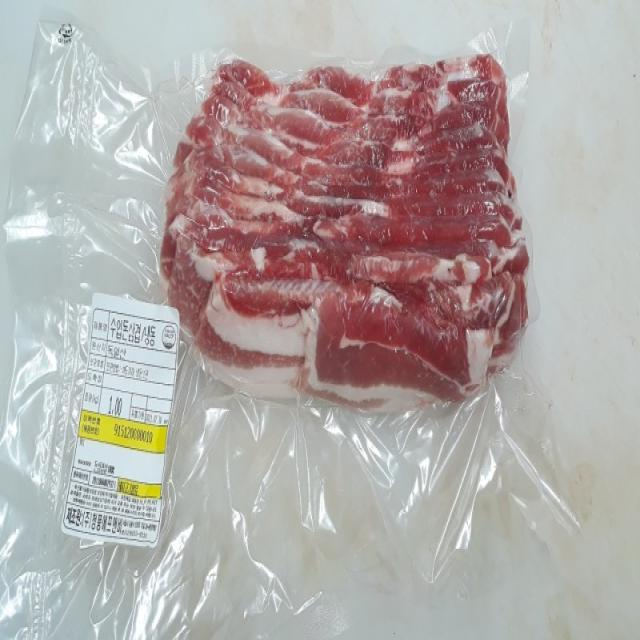pork: (156, 13, 548, 421)
